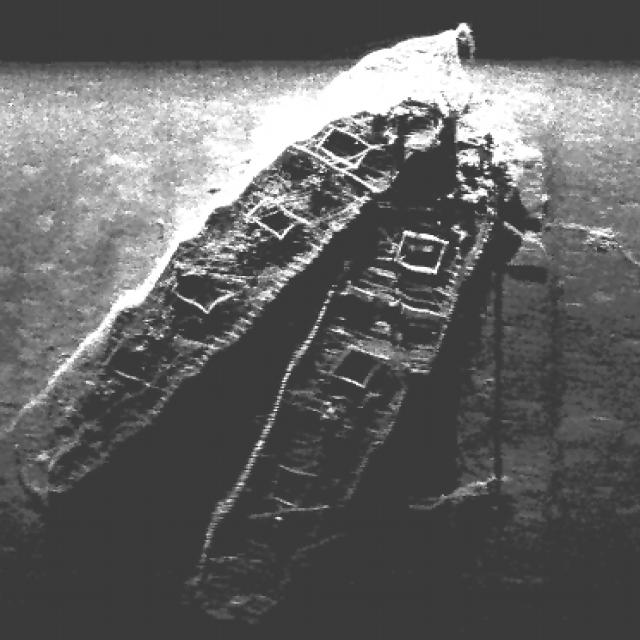ship: (11, 9, 472, 508), (170, 144, 535, 622)
